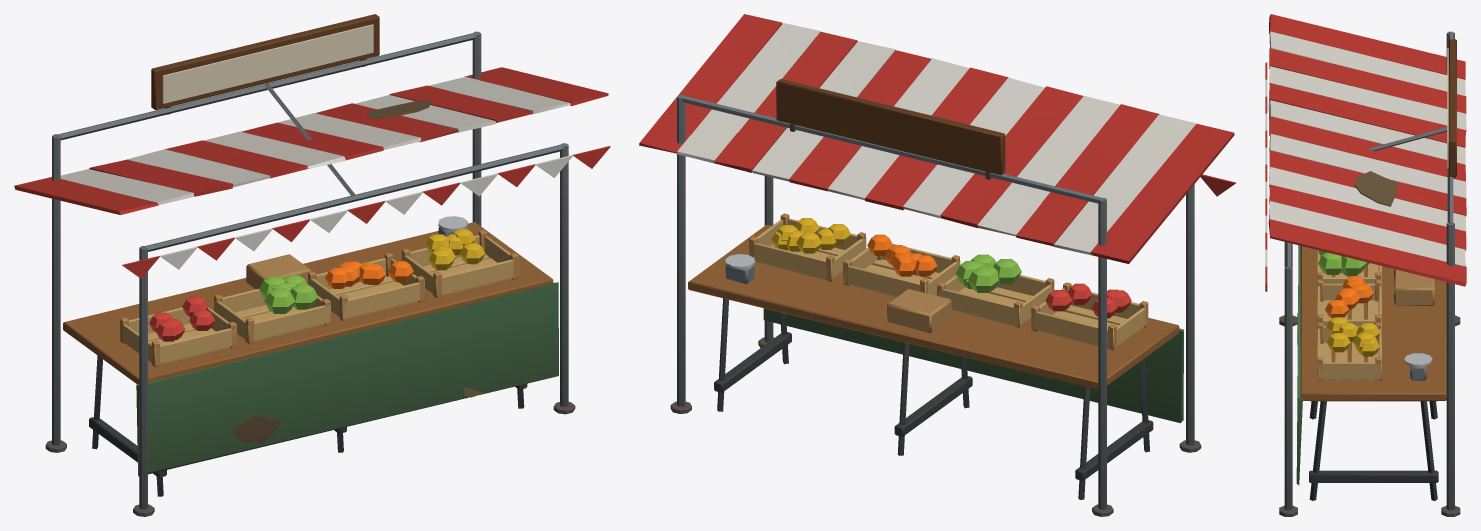
File: 34_etal_marche.fbx
3 renders of one model, left to right at view 1: azimuth 30°, elevation 25°; view 2: azimuth 150°, elevation 25°; view 3: azimuth 270°, elevation 25°, orthographic. The views are drawn at different scales.
Visible parts, largest first — view 1: Comptoir, Auvent, Structure, Panneau; view 2: Auvent, Comptoir, Structure, Panneau; view 3: Auvent, Comptoir, Structure, Panneau.
Part boxes in pixels (x1,y1,x2,y2): Comptoir: [63, 216, 558, 496]; Auvent: [14, 67, 610, 278]; Structure: [45, 31, 575, 516]; Panneau: [151, 14, 379, 114]; Auvent: [639, 14, 1236, 263]; Comptoir: [688, 213, 1183, 499]; Structure: [670, 95, 1201, 516]; Panneau: [776, 79, 1005, 179]; Auvent: [1265, 14, 1466, 291]; Comptoir: [1296, 245, 1446, 500]; Structure: [1279, 31, 1460, 516]; Panneau: [1447, 39, 1456, 178].
Bounding box in the file's own units: 3.64 × 2.52 × 1.4.
1 material, 1 textured.
